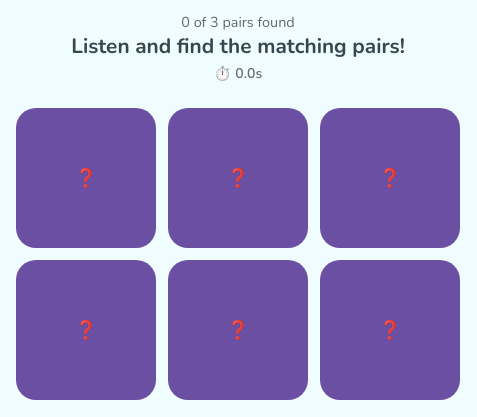
Test: SoundMemoryMatchGame › never reveals a picture on a mismatch — both tiles stay generic even while flipped
The width and height of the screenshot is (477, 417).
Click the 1st button "❓" at (86, 178), box [16,108,156,248]
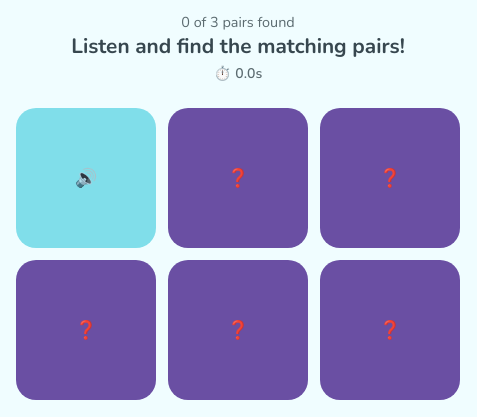
Click the 1st button "❓" at (238, 178), box [168,108,308,248]
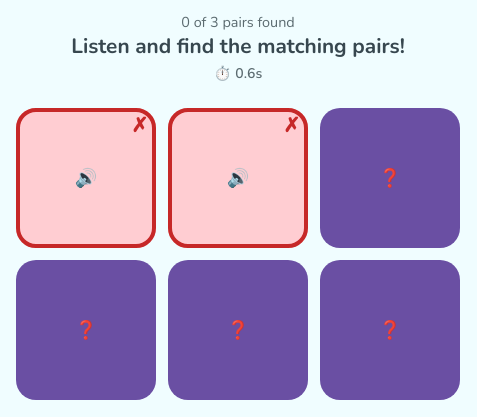
Now the 1st element with class "memory-board__tile-face" reads "🔊", box [75,166,97,190]
Now the 2nd element with class "memory-board__tile-face" reads "🔊", box [227,166,249,190]
